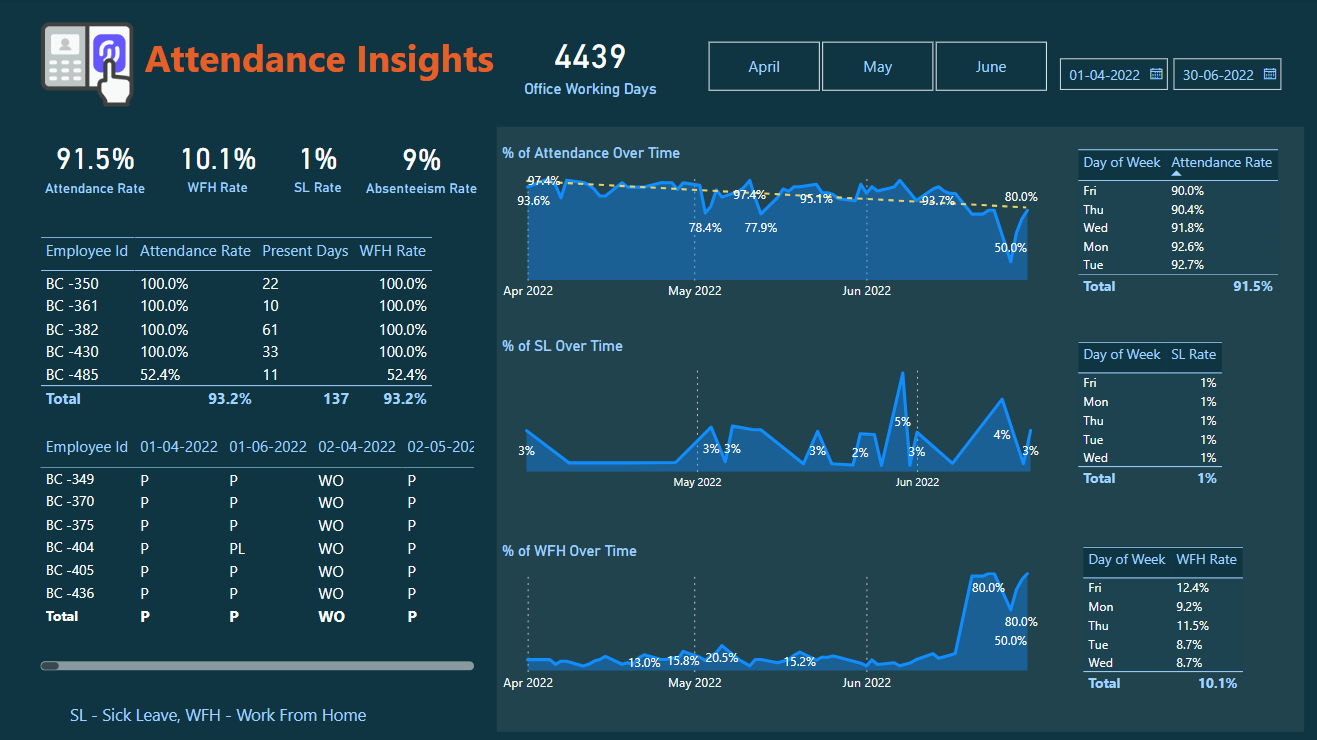

This screenshot's page, from the dashboard's own definition file:
{"tool":"powerbi","page":{"name":"Attendance Details","canvas":[1280,720],"ordinal":0},"visuals":[{"type":"card","fields":{"Values":["Measure.Office Working Days"]},"box":[486.2,25.3,170.1,89.3],"z":0},{"type":"card","fields":{"Values":["Measure.Attendance %"]},"box":[39.8,124.3,135,85.7],"z":1000},{"type":"card","fields":{"Values":["Measure.WFH %"]},"box":[189.4,124.3,135,85.7],"z":2000},{"type":"card","fields":{"Values":["Measure.SL %"]},"box":[339,124.3,135,85.7],"z":3000},{"type":"slicer","fields":{"Values":["Employee_Attendance.Date.Variation.Date Hierarchy.Month"]},"box":[670.8,50.7,370.4,53.1],"z":4000},{"type":"slicer","fields":{"Values":["Employee_Attendance.Date"]},"box":[1029.1,48.3,237.7,43.4],"z":5000},{"type":"textbox","box":[486.1,124.7,779.5,583.9],"z":6000},{"type":"areaChart","title":"% of Attendance Over Time","fields":{"Category":["Employee_Attendance.Date.Variation.Date Hierarchy.Year","Employee_Attendance.Date.Variation.Date Hierarchy.Quarter","Employee_Attendance.Date.Variation.Date Hierarchy.Month","Employee_Attendance.Date.Variation.Date Hierarchy.Day"],"Y":["Measure.Attendance %"]},"box":[486.1,141.7,541.4,160.2],"z":7000},{"type":"stackedAreaChart","title":"% of SL Over Time","fields":{"Y":["Measure.SL %"],"Category":["Employee_Attendance.Date.Variation.Date Hierarchy.Year","Employee_Attendance.Date.Variation.Date Hierarchy.Quarter","Employee_Attendance.Date.Variation.Date Hierarchy.Month","Employee_Attendance.Date.Variation.Date Hierarchy.Day"]},"box":[486.1,327.4,541.4,157.3],"z":8000},{"type":"stackedAreaChart","title":"% of WFH Over Time","fields":{"Y":["Measure.WFH %"],"Category":["Employee_Attendance.Date.Variation.Date Hierarchy.Year","Employee_Attendance.Date.Variation.Date Hierarchy.Quarter","Employee_Attendance.Date.Variation.Date Hierarchy.Month","Employee_Attendance.Date.Variation.Date Hierarchy.Day"]},"box":[486.1,524.4,541.4,154.5],"z":9000},{"type":"tableEx","fields":{"Values":["Employee_Attendance.Day of Week","Measure.Attendance %"]},"box":[1041.7,141.7,223.9,160.2],"z":10000},{"type":"tableEx","fields":{"Values":["Employee_Attendance.Day of Week","Measure.SL %"]},"box":[1041.7,327.4,214,157.3],"z":11000},{"type":"tableEx","fields":{"Values":["Employee_Attendance.Day of Week","Measure.WFH %"]},"box":[1046,524.4,214,172.9],"z":12000},{"type":"tableEx","fields":{"Values":["Employee_Attendance.Employee Id","Measure.Attendance %","Measure.Present Days","Measure.WFH %"]},"box":[39.8,225.6,428.3,190.6],"z":13000},{"type":"pivotTable","fields":{"Rows":["Employee_Attendance.Employee Id"],"Columns":["Employee_Attendance.NewDateFormat"],"Values":["Min(Employee_Attendance.Value)"]},"box":[41,416.2,428.3,237.7],"z":14000},{"type":"textbox","box":[54.3,667.2,401.7,41],"z":15000},{"type":"textbox","title":"Attendance Insights","box":[13,14.5,459.7,109.8],"z":16000},{"type":"image","box":[39.8,18.1,85.7,85.7],"z":17000}]}

Visuals, with their boxes in screenshot pixels (x1, y1, x2, y2), scaled from the page's 1280x720 canvas onto the 1317x740 screenshot:
card - Measure.Office Working Days: (left=500, top=26, right=675, bottom=118)
card - Measure.Attendance %: (left=41, top=128, right=180, bottom=216)
card - Measure.WFH %: (left=195, top=128, right=334, bottom=216)
card - Measure.SL %: (left=349, top=128, right=488, bottom=216)
slicer - Employee_Attendance.Date.Variation.Date Hierarchy.Month: (left=690, top=52, right=1071, bottom=107)
slicer - Employee_Attendance.Date: (left=1059, top=50, right=1303, bottom=94)
textbox: (left=500, top=128, right=1302, bottom=728)
"% of Attendance Over Time" areaChart: (left=500, top=146, right=1057, bottom=310)
"% of SL Over Time" stackedAreaChart: (left=500, top=336, right=1057, bottom=498)
"% of WFH Over Time" stackedAreaChart: (left=500, top=539, right=1057, bottom=698)
tableEx - Employee_Attendance.Day of Week x Measure.Attendance %: (left=1072, top=146, right=1302, bottom=310)
tableEx - Employee_Attendance.Day of Week x Measure.SL %: (left=1072, top=336, right=1292, bottom=498)
tableEx - Employee_Attendance.Day of Week x Measure.WFH %: (left=1076, top=539, right=1296, bottom=717)
tableEx - Employee_Attendance.Employee Id x Measure.Attendance %: (left=41, top=232, right=482, bottom=428)
pivotTable - Employee_Attendance.Employee Id x Employee_Attendance.NewDateFormat: (left=42, top=428, right=483, bottom=672)
textbox: (left=56, top=686, right=469, bottom=728)
"Attendance Insights" textbox: (left=13, top=15, right=486, bottom=128)
image: (left=41, top=19, right=129, bottom=107)
